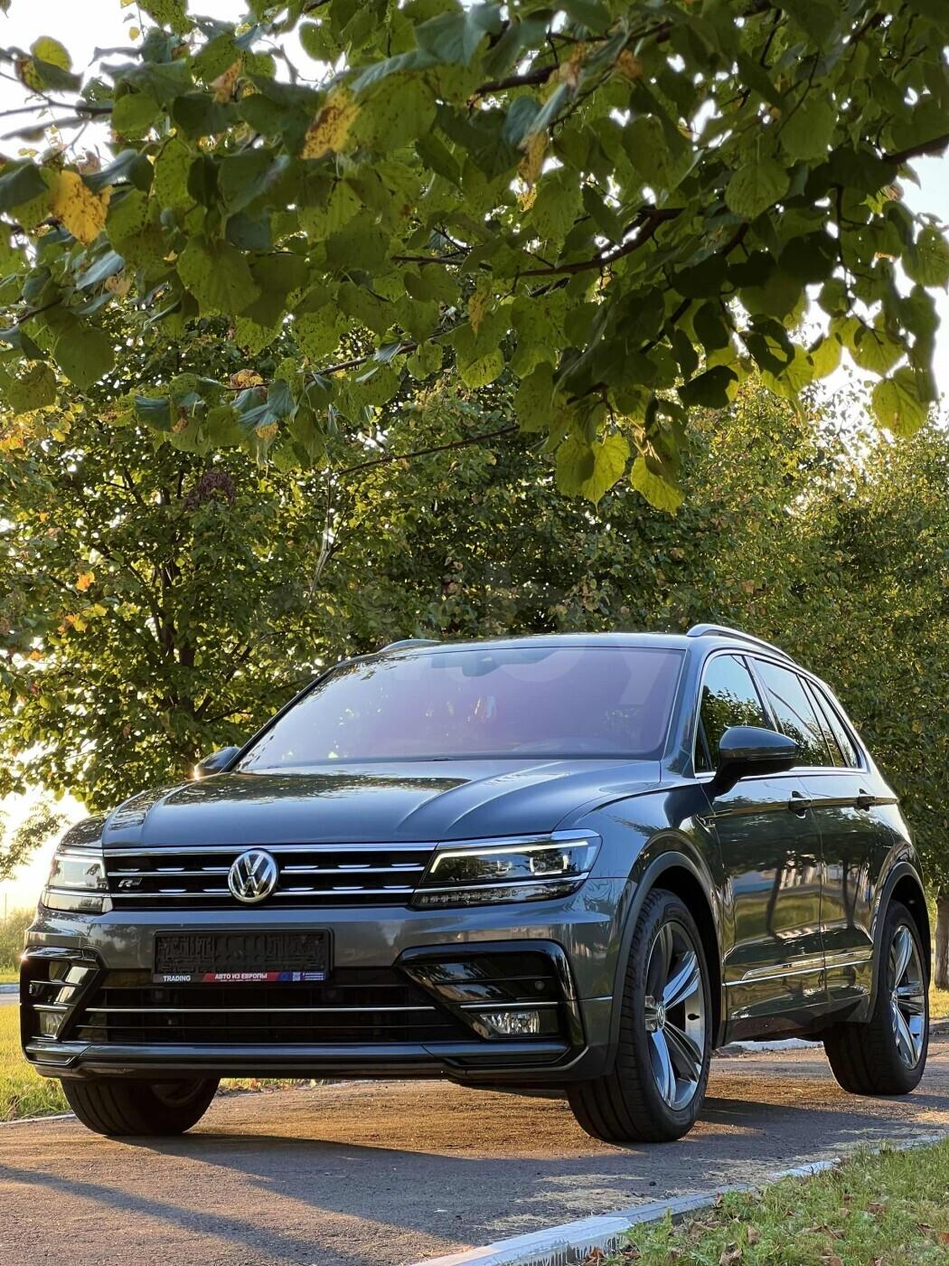Tiguan_2020-2024: (23, 622, 949, 1152)
